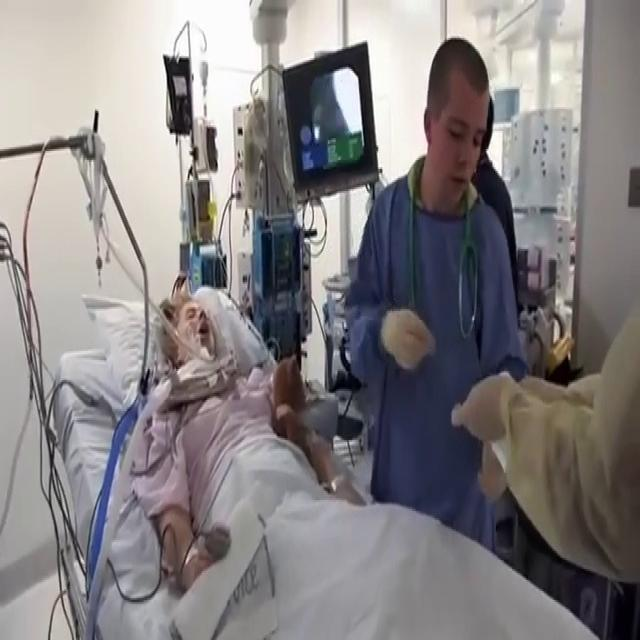monitor: (280, 38, 380, 198)
nurse: (343, 34, 528, 554)
patient: (85, 278, 604, 636)
